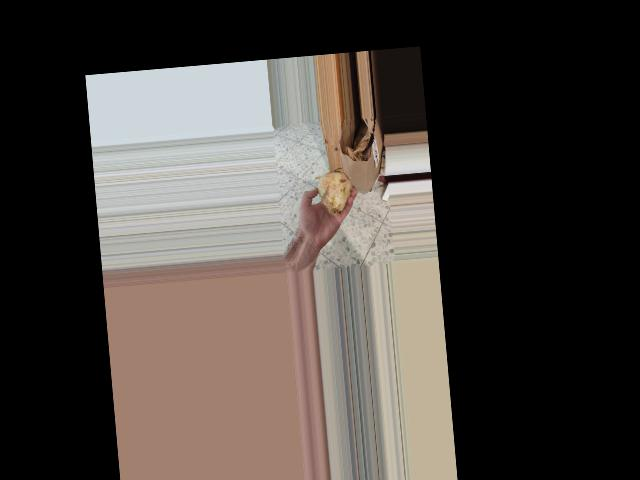onion: (315, 165, 356, 214)
